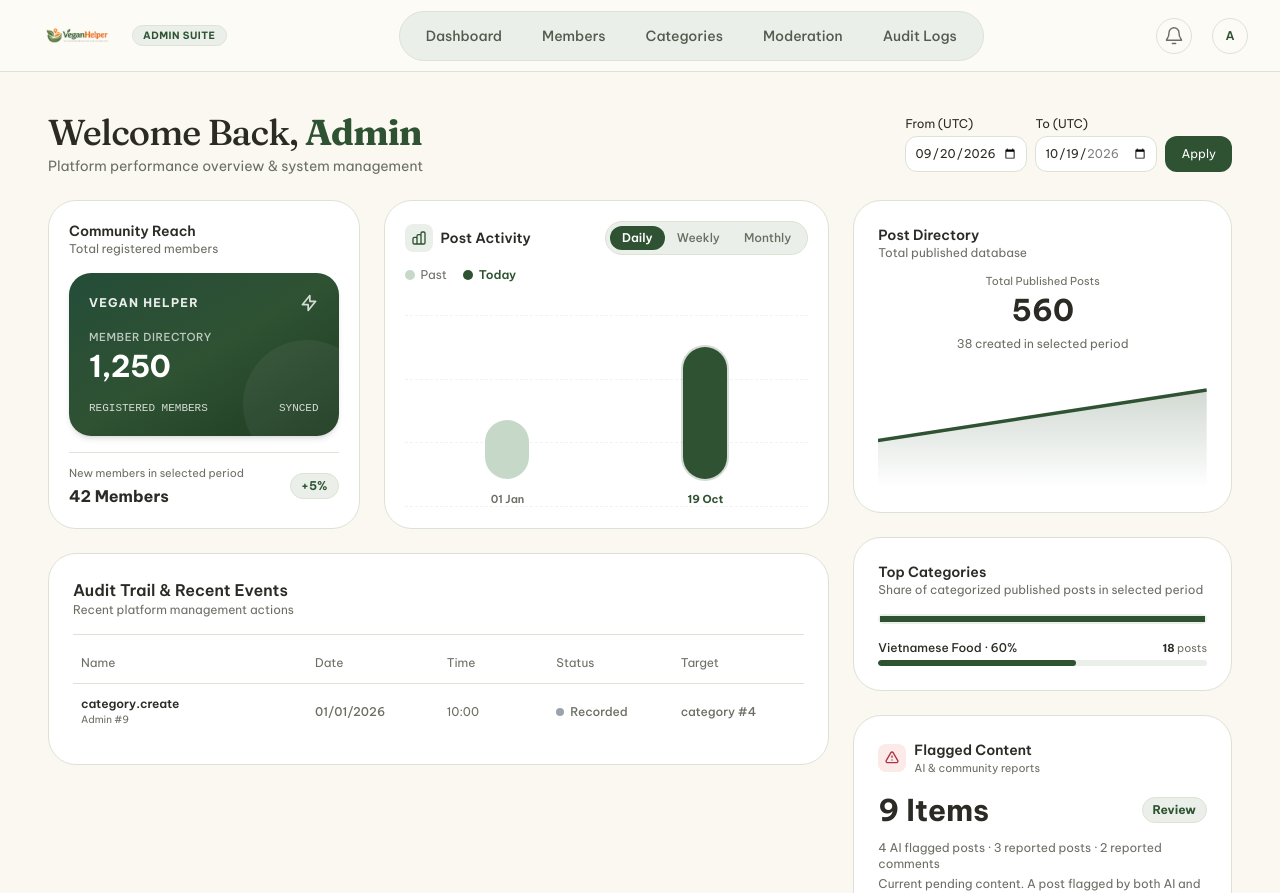
Scenario: distinguishes current day, week, and month with darker bar color and legend in post activity chart
Expected: the picture named "01 Jan: 4 posts" is shown, [486, 420, 530, 478]
Expected: the picture named "19 Oct: 9 posts" is shown, [683, 347, 727, 478]
What coordinates should you click on to do the following:
click the button "Weekly"
I would click on:
 (698, 238)
Its box is [665, 226, 732, 250].
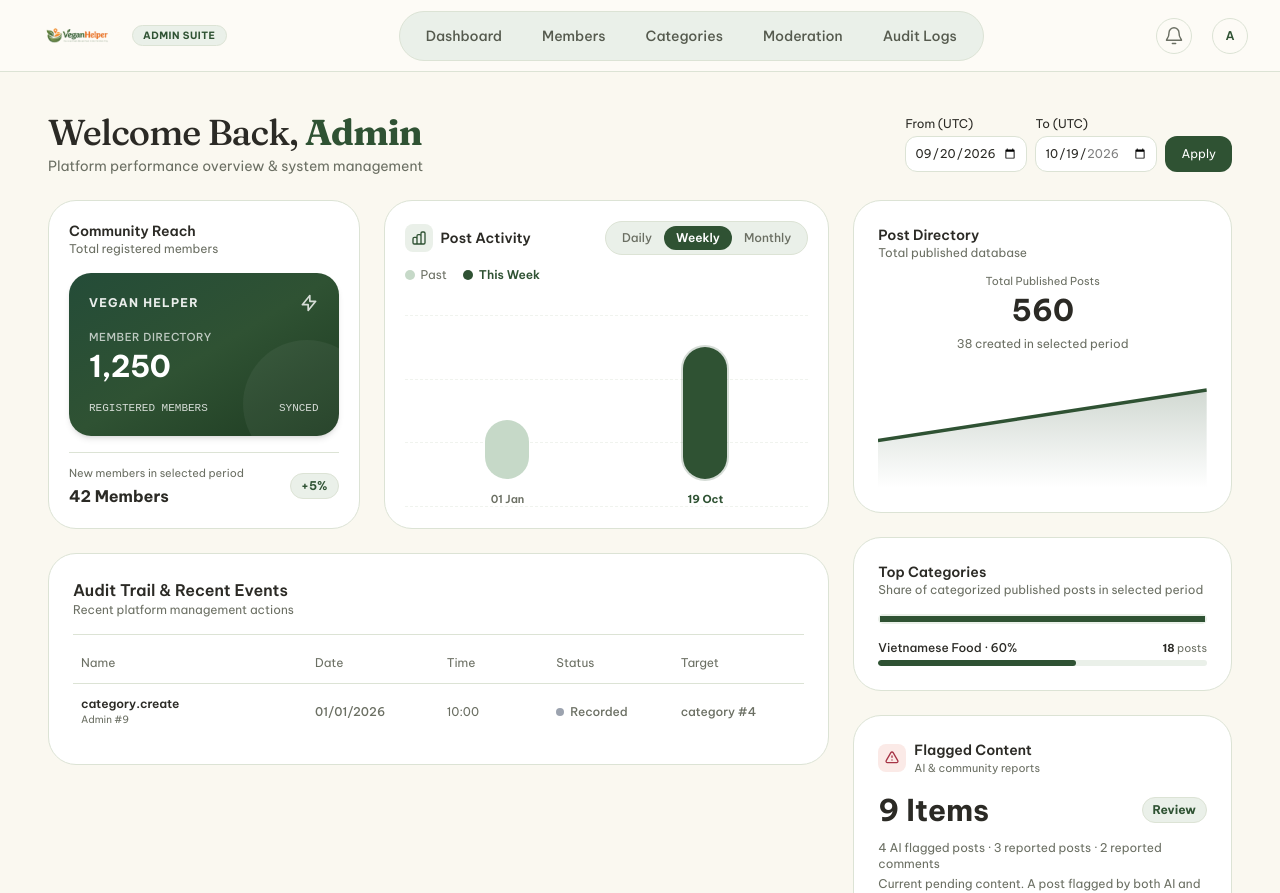
Expected: the text "This Week" is shown, [479, 267, 540, 283]
What coordinates should you click on to do the following:
click the button "Monthly"
I would click on:
 (768, 238)
Its box is [732, 226, 803, 250].
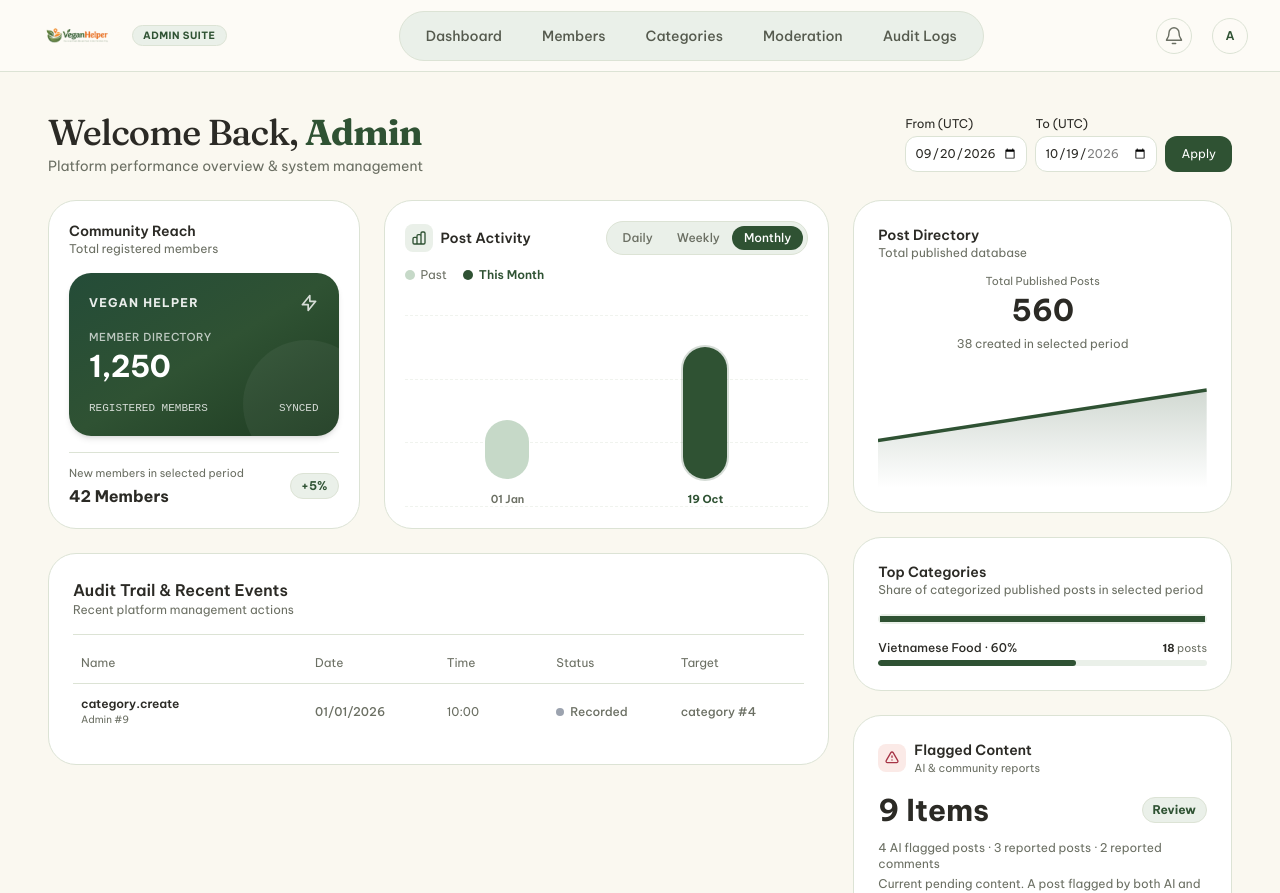
Expected: the text "This Month" is shown, [479, 267, 544, 283]
